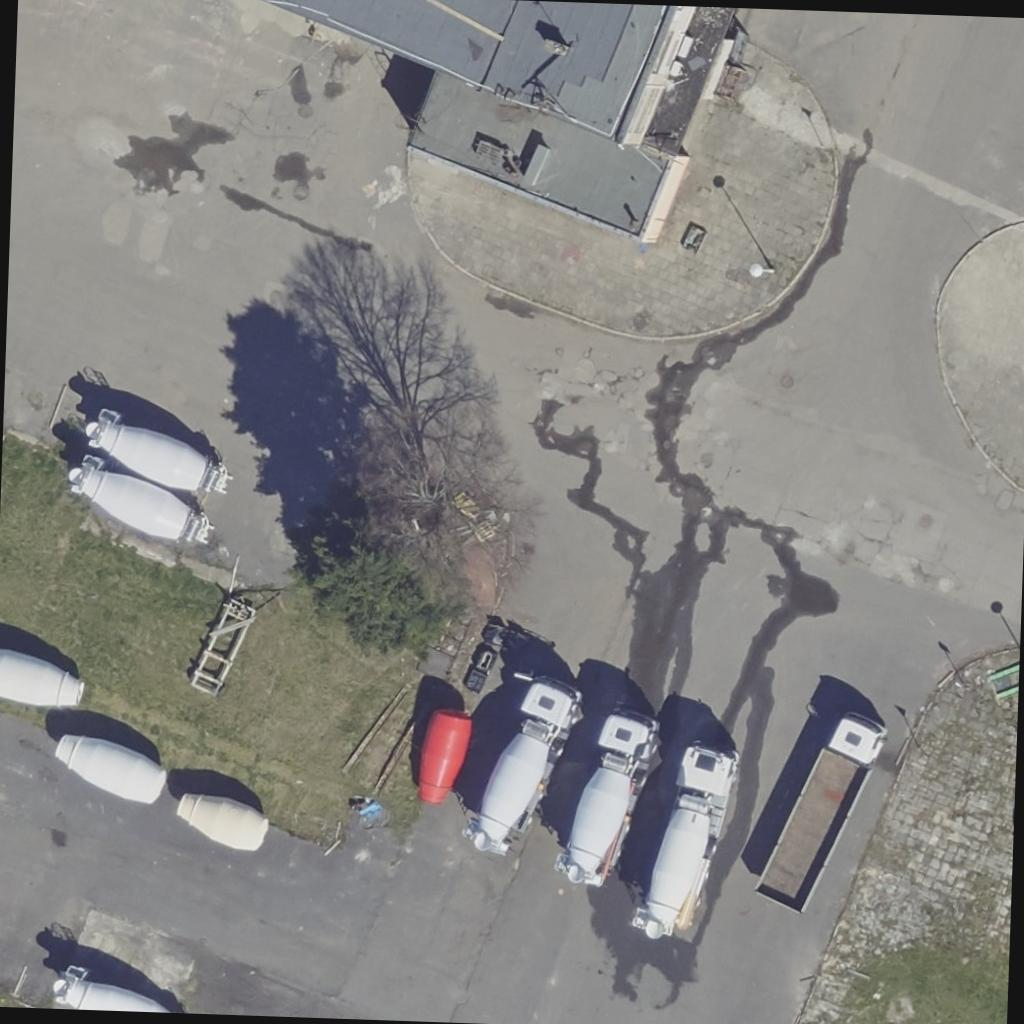betoniarka: (463, 674, 582, 856), (630, 740, 738, 940), (554, 706, 657, 886), (418, 707, 471, 804)
